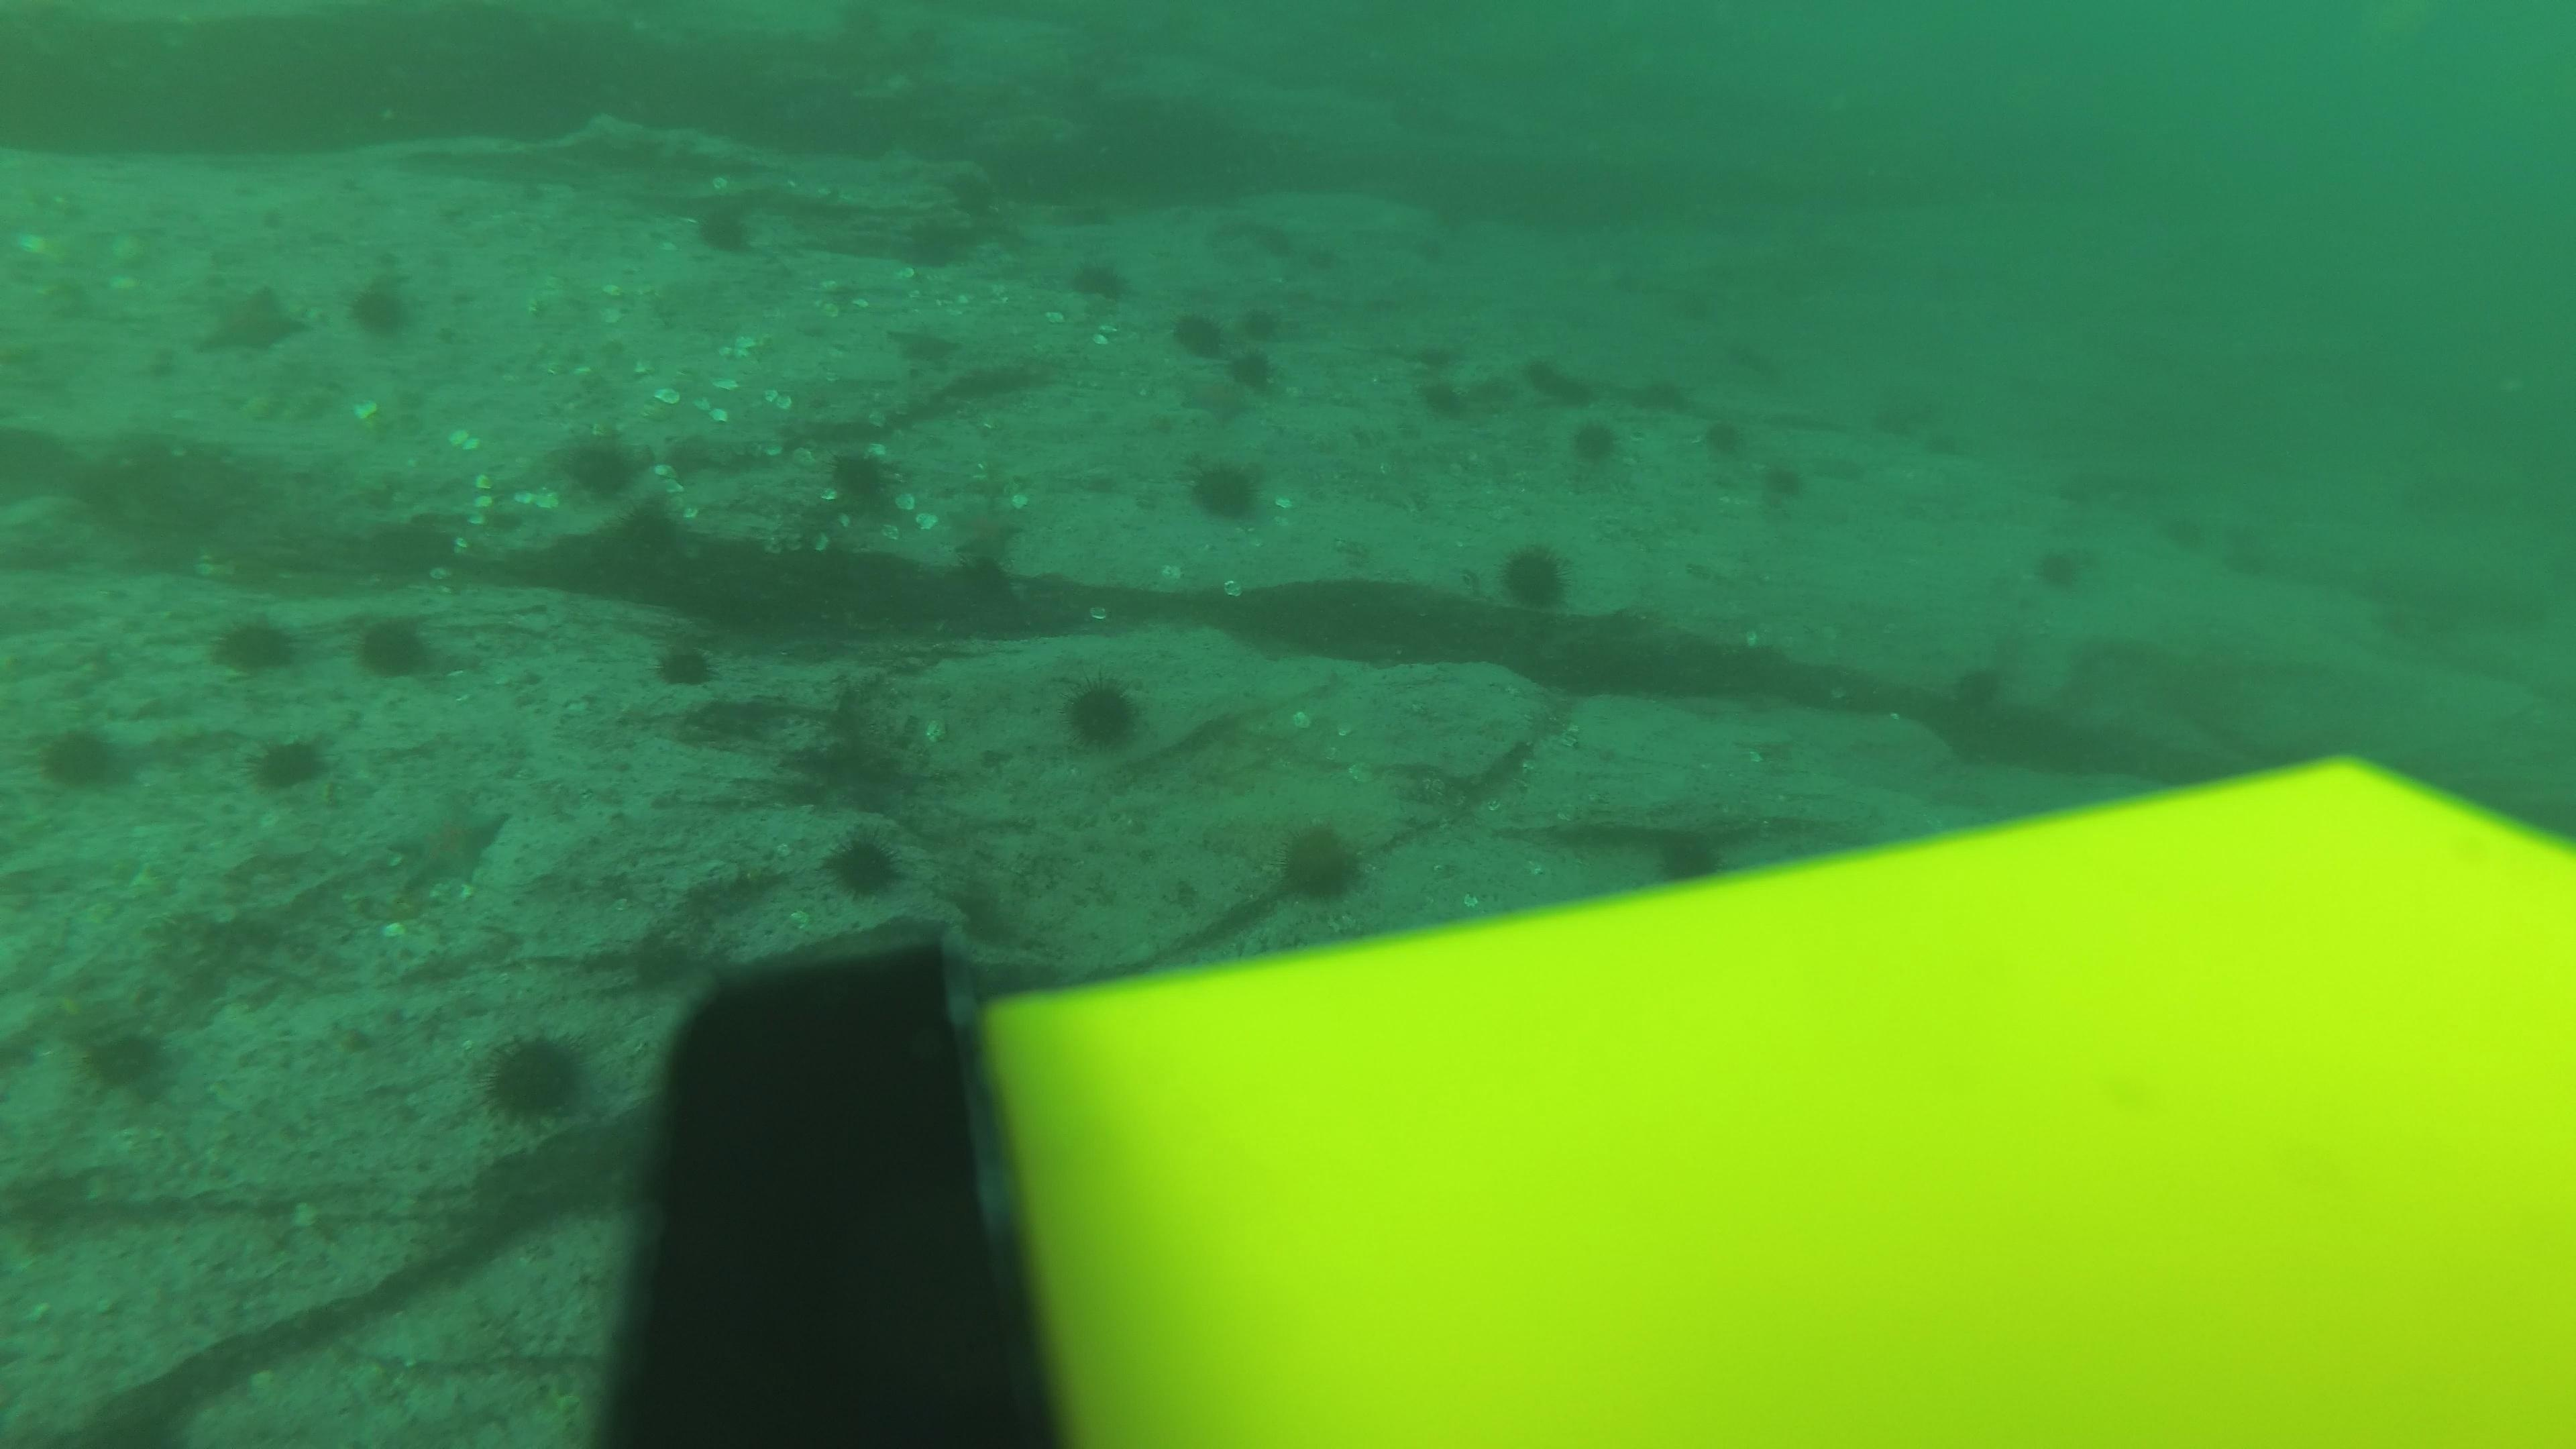echinus: (472, 1024, 594, 1131), (71, 1014, 184, 1108), (1265, 817, 1373, 909), (28, 715, 136, 800), (547, 423, 653, 508), (1053, 669, 1154, 757), (596, 487, 701, 571), (816, 439, 913, 527), (347, 607, 451, 688), (816, 824, 911, 906), (616, 911, 709, 993), (205, 607, 304, 681), (1182, 453, 1274, 531), (895, 198, 985, 272), (1493, 538, 1576, 616), (244, 729, 334, 800), (1645, 821, 1734, 892), (341, 269, 423, 345), (681, 189, 766, 262), (646, 628, 725, 694), (1410, 359, 1474, 425), (1562, 412, 1628, 474), (2197, 499, 2263, 561), (2390, 472, 2457, 533), (932, 166, 1001, 225), (2029, 536, 2095, 596), (1944, 656, 2010, 717), (2049, 456, 2114, 517), (2146, 499, 2212, 559), (2199, 536, 2265, 596), (2374, 591, 2440, 651), (1063, 251, 1132, 308), (1168, 303, 1231, 363), (1223, 338, 1290, 395), (1235, 297, 1299, 349), (1757, 453, 1812, 501), (1711, 258, 1766, 306), (1723, 338, 1778, 386), (1867, 402, 1921, 449), (1913, 426, 1967, 474), (1300, 244, 1355, 292), (1256, 219, 1311, 267), (1399, 226, 1454, 274), (1599, 258, 1652, 306), (1734, 356, 1787, 403), (1898, 393, 1951, 441), (1552, 372, 1606, 418), (1663, 288, 1718, 334), (1698, 418, 1752, 464), (1633, 373, 1686, 419), (1513, 345, 1566, 391), (1063, 191, 1116, 237)
starfish: (387, 794, 513, 893), (191, 280, 310, 361), (943, 494, 1030, 566), (1173, 363, 1263, 426), (886, 317, 962, 370)
